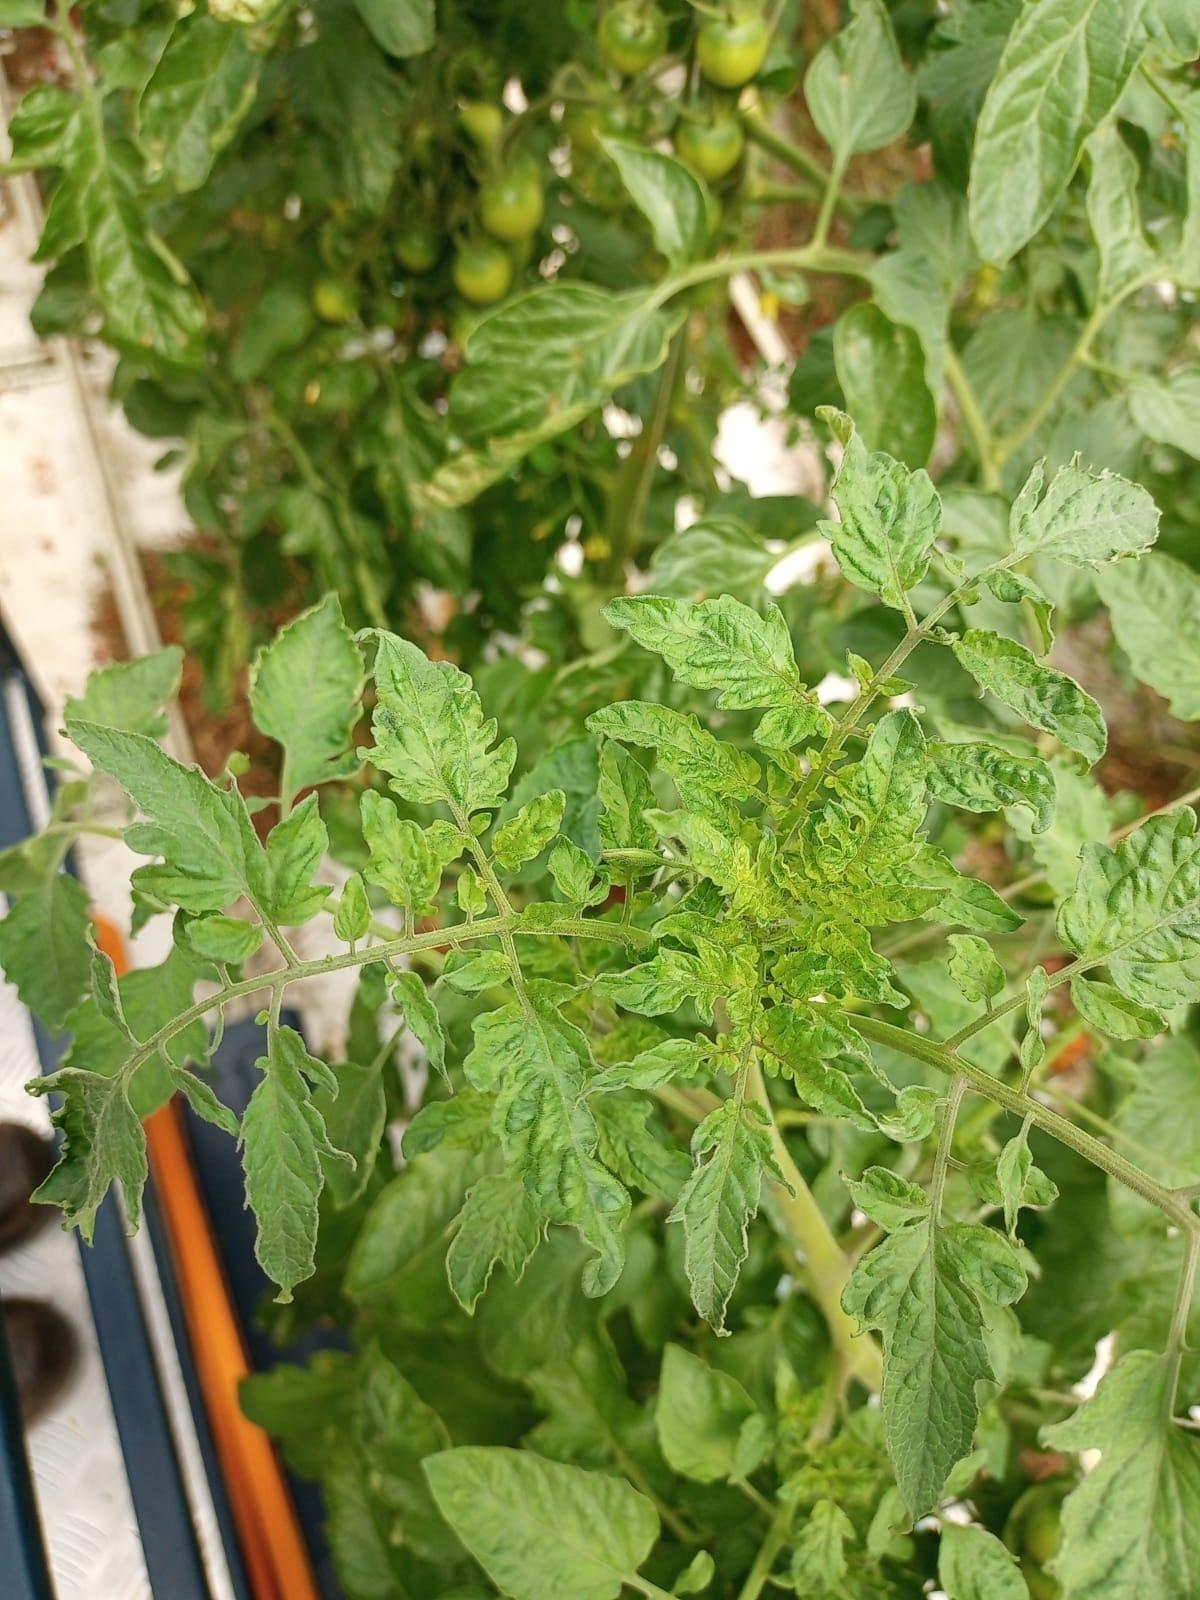Rugose leaf: (463, 981, 628, 1296), (606, 597, 831, 748), (1058, 808, 1199, 1038), (819, 435, 940, 610), (953, 629, 1107, 762), (24, 1068, 145, 1236), (1010, 454, 1160, 567), (587, 703, 759, 800), (359, 791, 463, 926), (928, 743, 1056, 828), (594, 950, 716, 1015)
Rugose stem: (850, 1015, 1197, 1228)
